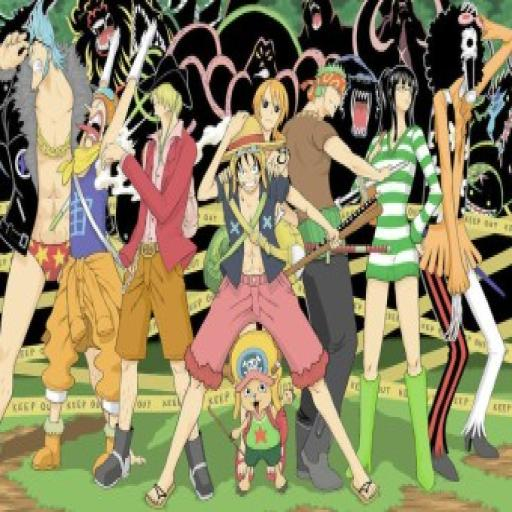Luffy: (208, 119, 286, 199)
Nami: (250, 73, 293, 132)
NicoRobin: (376, 65, 423, 134)
Usopp: (70, 78, 120, 162)
Zoro: (304, 62, 349, 126)
sanji: (146, 78, 189, 126)
